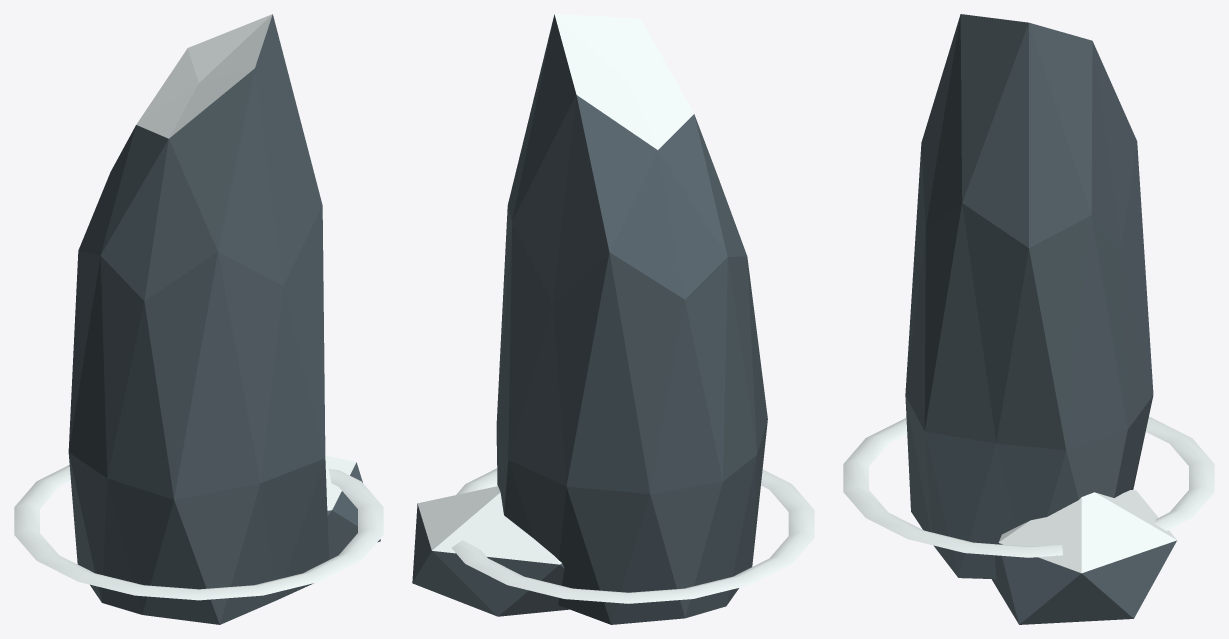
Rendered from W2_Rock_B.fbx.
3 renders of one model, left to right at view 1: azimuth 30°, elevation 25°; view 2: azimuth 150°, elevation 25°; view 3: azimuth 270°, elevation 25°, orthographic.
Visible parts, largest first — view 1: W2_Rock_B; view 2: W2_Rock_B; view 3: W2_Rock_B.
Part boxes in pixels (left/top/right/bottom): W2_Rock_B: left=14, top=14, right=383, bottom=624; W2_Rock_B: left=412, top=14, right=814, bottom=624; W2_Rock_B: left=843, top=14, right=1214, bottom=624.
Bounding box in the file's own units: 3.67 × 5.56 × 3.39.
